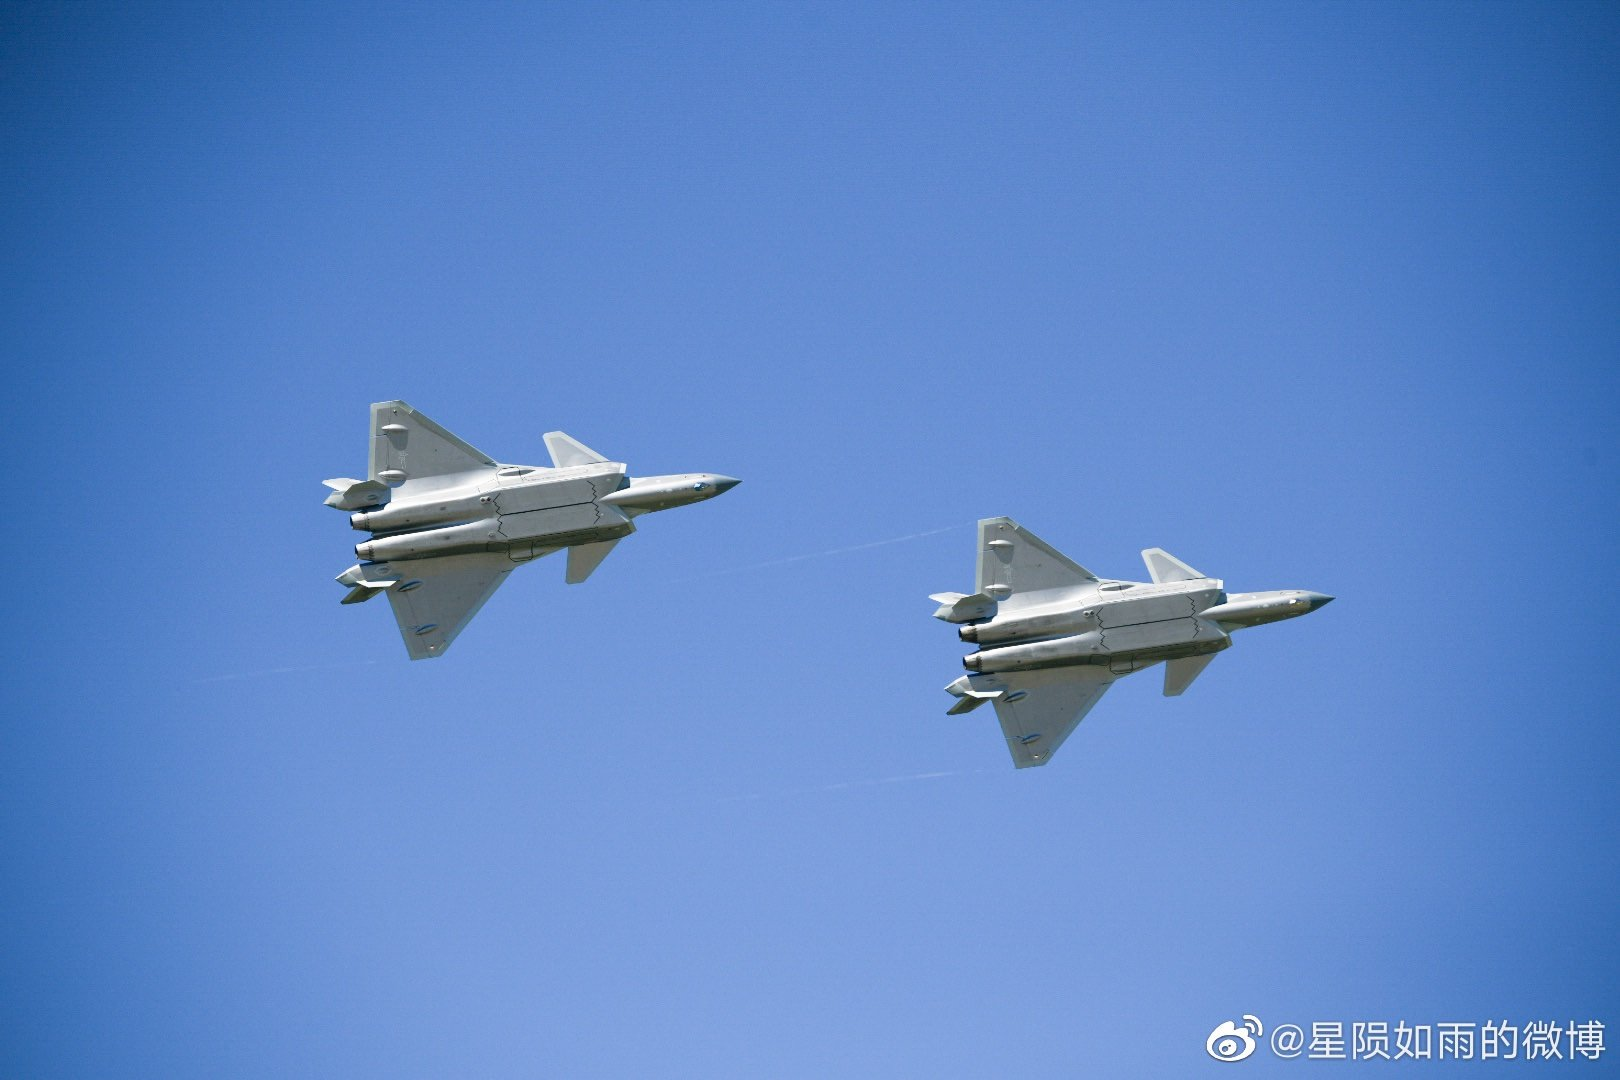J20: (319, 399, 742, 661), (926, 515, 1337, 770)
